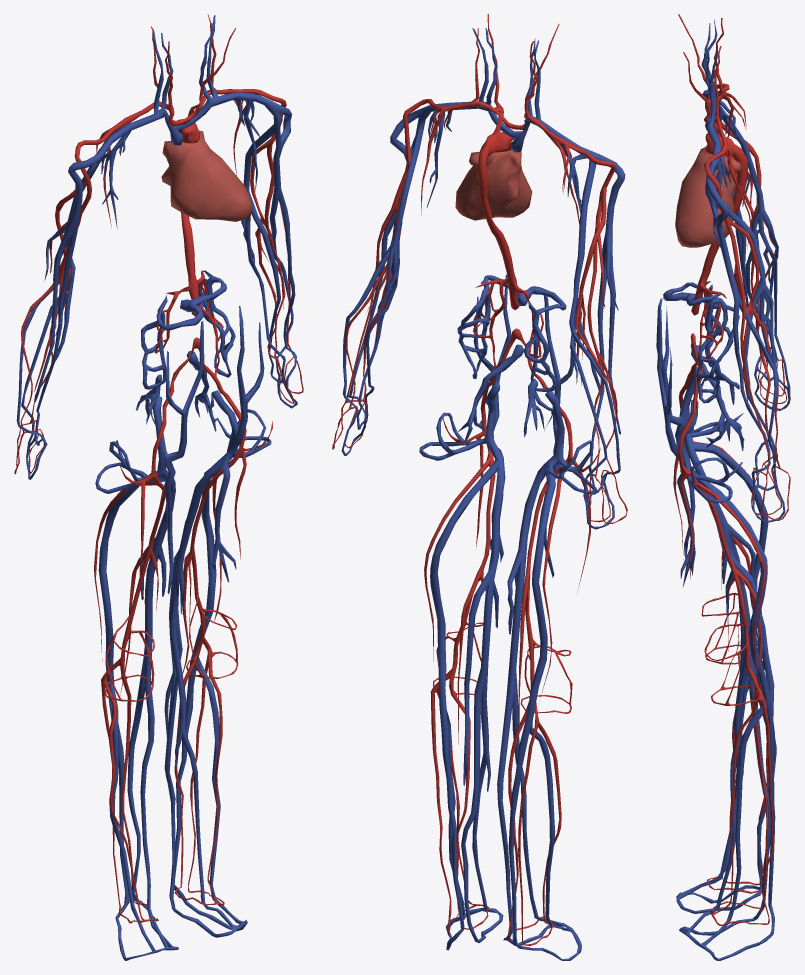
File: icrp_adult_female.cardiovascular.LOD3.glb
3 views of the same model, side by side, from view 1: azimuth 30°, elevation 25°; view 2: azimuth 150°, elevation 25°; view 3: azimuth 270°, elevation 25° (orthographic). The views are drawn at different scales.
Parts seen in each view (by area): view 1: ICRP.ADULT.FEMALE.CARDIOVASCULAR.BLOOD_IN_LARGE_VEINS, ICRP.ADULT.FEMALE.CARDIOVASCULAR.BLOOD_IN_LARGE_ARTERIES, ICRP.ADULT.FEMALE.CARDIOVASCULAR.HEART_WALL; view 2: ICRP.ADULT.FEMALE.CARDIOVASCULAR.BLOOD_IN_LARGE_VEINS, ICRP.ADULT.FEMALE.CARDIOVASCULAR.BLOOD_IN_LARGE_ARTERIES, ICRP.ADULT.FEMALE.CARDIOVASCULAR.HEART_WALL; view 3: ICRP.ADULT.FEMALE.CARDIOVASCULAR.BLOOD_IN_LARGE_VEINS, ICRP.ADULT.FEMALE.CARDIOVASCULAR.BLOOD_IN_LARGE_ARTERIES, ICRP.ADULT.FEMALE.CARDIOVASCULAR.HEART_WALL.
Part boxes in pixels (x1=…): ICRP.ADULT.FEMALE.CARDIOVASCULAR.BLOOD_IN_LARGE_VEINS: x1=16, y1=15, x2=297, y2=960; ICRP.ADULT.FEMALE.CARDIOVASCULAR.BLOOD_IN_LARGE_ARTERIES: x1=14, y1=14, x2=303, y2=923; ICRP.ADULT.FEMALE.CARDIOVASCULAR.HEART_WALL: x1=161, y1=130, x2=252, y2=221; ICRP.ADULT.FEMALE.CARDIOVASCULAR.BLOOD_IN_LARGE_VEINS: x1=341, y1=28, x2=625, y2=960; ICRP.ADULT.FEMALE.CARDIOVASCULAR.BLOOD_IN_LARGE_ARTERIES: x1=332, y1=14, x2=627, y2=946; ICRP.ADULT.FEMALE.CARDIOVASCULAR.HEART_WALL: x1=455, y1=150, x2=532, y2=220; ICRP.ADULT.FEMALE.CARDIOVASCULAR.BLOOD_IN_LARGE_VEINS: x1=656, y1=19, x2=790, y2=960; ICRP.ADULT.FEMALE.CARDIOVASCULAR.BLOOD_IN_LARGE_ARTERIES: x1=673, y1=14, x2=790, y2=925; ICRP.ADULT.FEMALE.CARDIOVASCULAR.HEART_WALL: x1=675, y1=146, x2=742, y2=247.
Bounding box in the file's own units: 0.491 × 1.5 × 0.2015.
